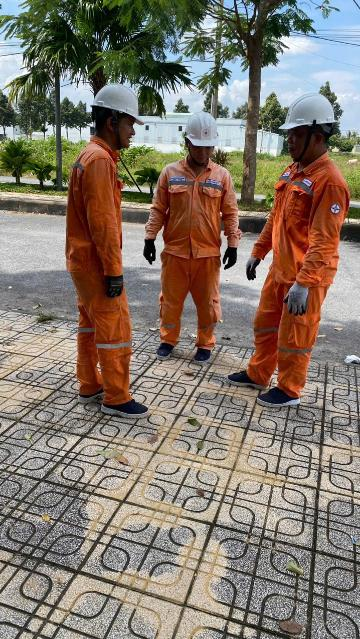gloves: (280, 277, 314, 321), (102, 269, 125, 302), (242, 254, 261, 281), (223, 243, 238, 273), (143, 235, 157, 266)
helmet: (268, 84, 345, 145), (86, 77, 149, 131), (181, 105, 218, 152)
shoes: (99, 392, 150, 421), (225, 367, 272, 394), (258, 385, 303, 410), (72, 385, 117, 404), (153, 336, 178, 364), (187, 345, 216, 368)
